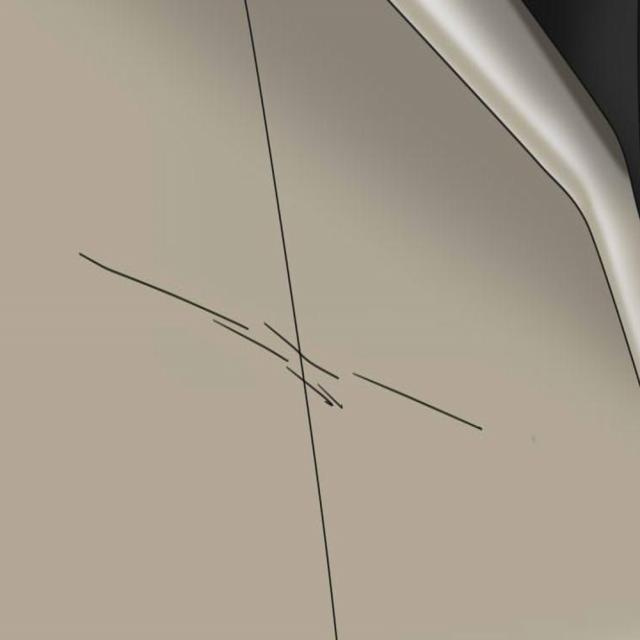scratch: (71, 248, 347, 428), (348, 356, 496, 438)
